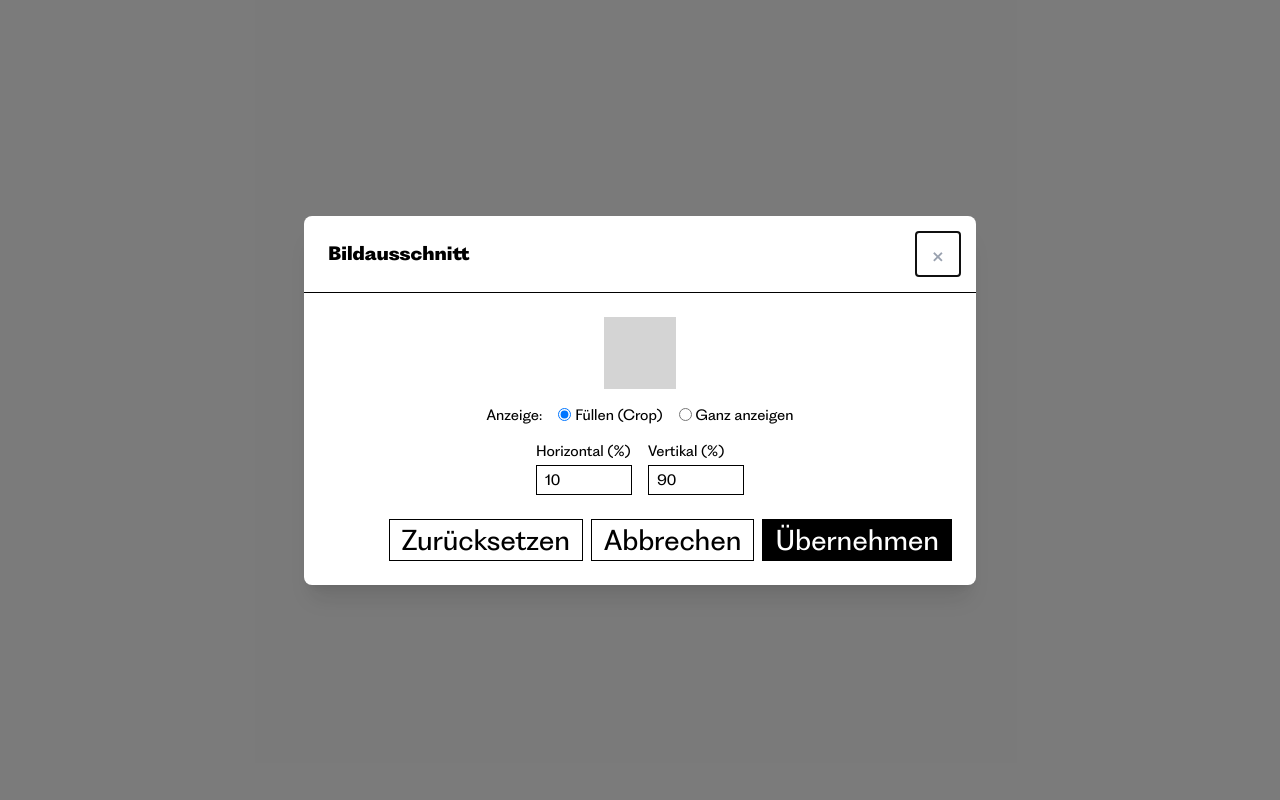
CropModal › Reset button sets both to 50
The width and height of the screenshot is (1280, 800).
What coordinates should you click on to do the following:
click the button with test id "crop-reset"
I would click on:
 (486, 540)
Its box is x1=389 y1=518 x2=583 y2=560.
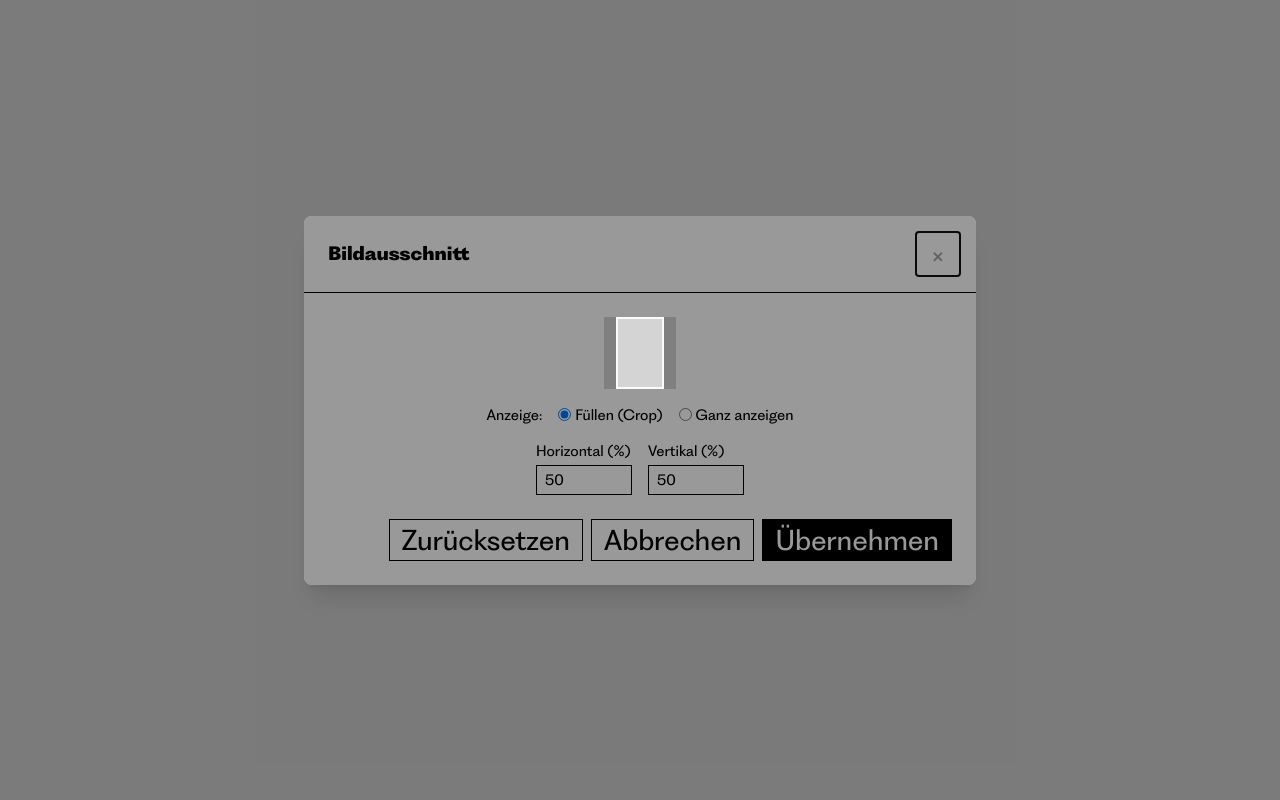
Expected: the number field with test id "crop-input-x" holds "50", x1=536 y1=464 x2=632 y2=494
Expected: the number field with test id "crop-input-y" holds "50", x1=648 y1=464 x2=744 y2=494
